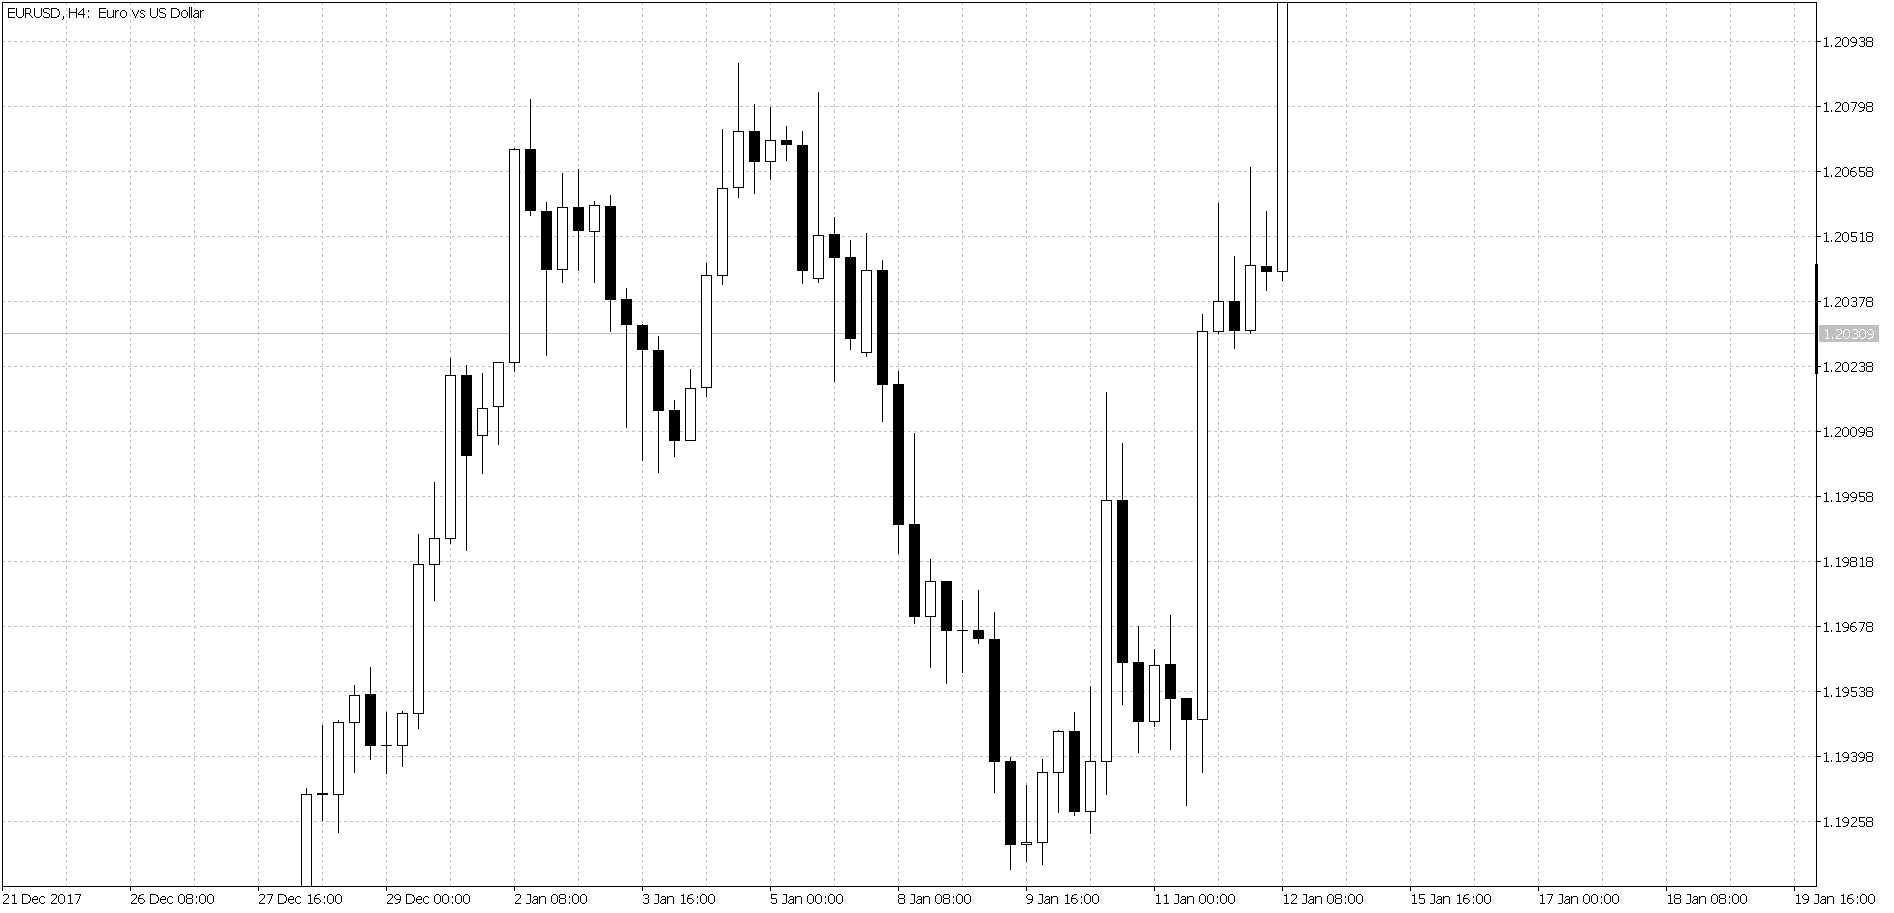3blackcrows: (875, 243, 922, 641)
bullishEngulfing: (667, 372, 698, 458)
morningDojiStar: (1003, 744, 1050, 867), (364, 661, 409, 769)
